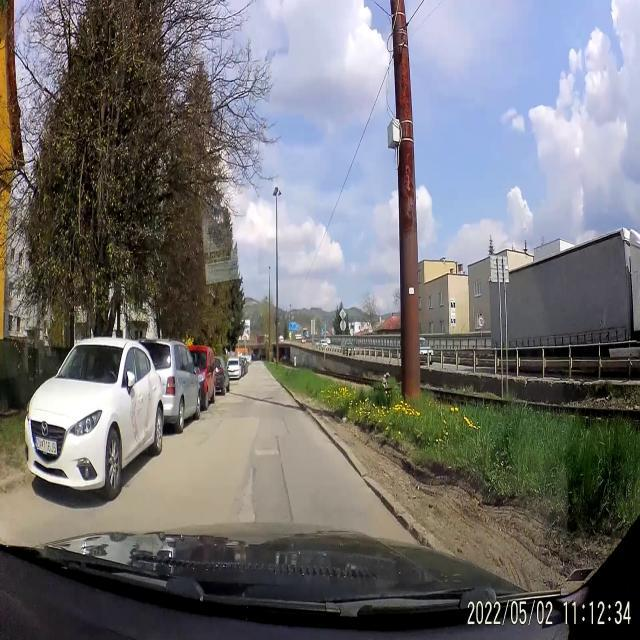Pothole: (252, 442, 284, 463)
